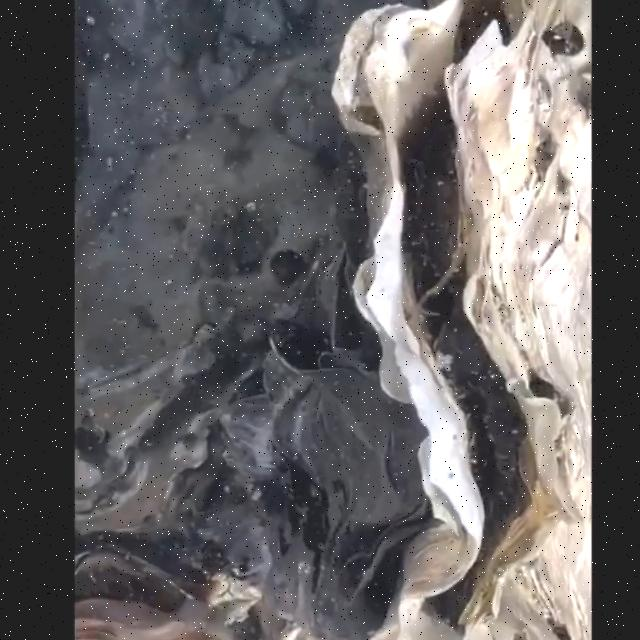Oyster-Open: (330, 0, 596, 640), (70, 47, 354, 513)
